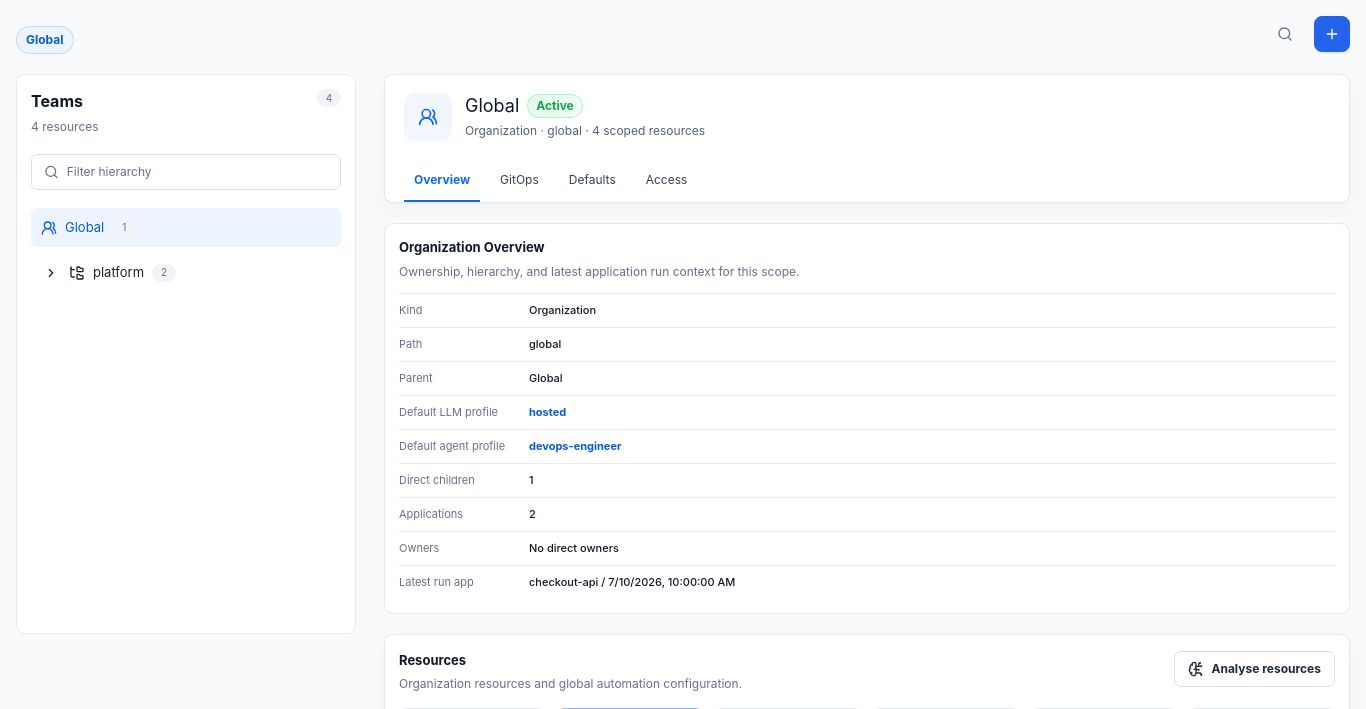
Test: TeamsWorkspace › links global GitOps to the system config instead of opening team configuration
Click the tab "GitOps". click: click(519, 180)
box: [490,159,549,202]
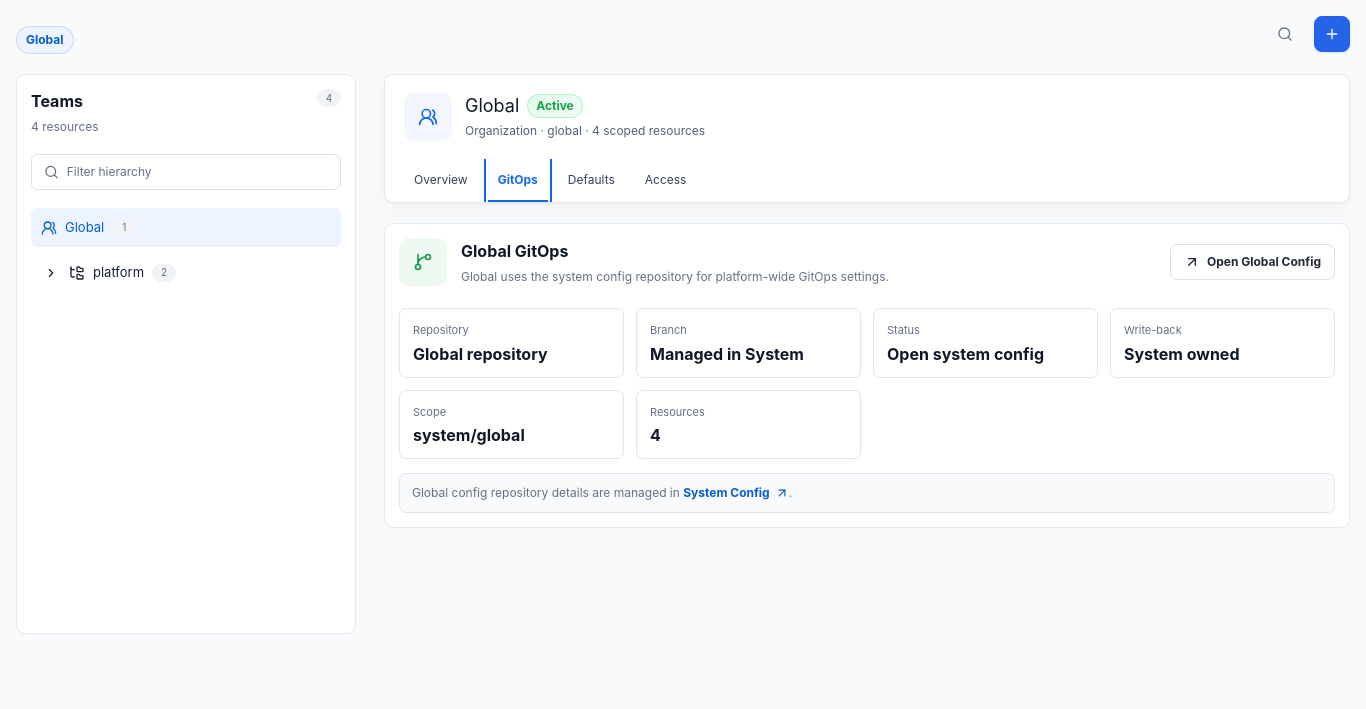
Result: the heading "Global GitOps" is shown at [461,240,568,260]
Result: the text "Global uses the system config repository" is shown at [461,268,889,284]
